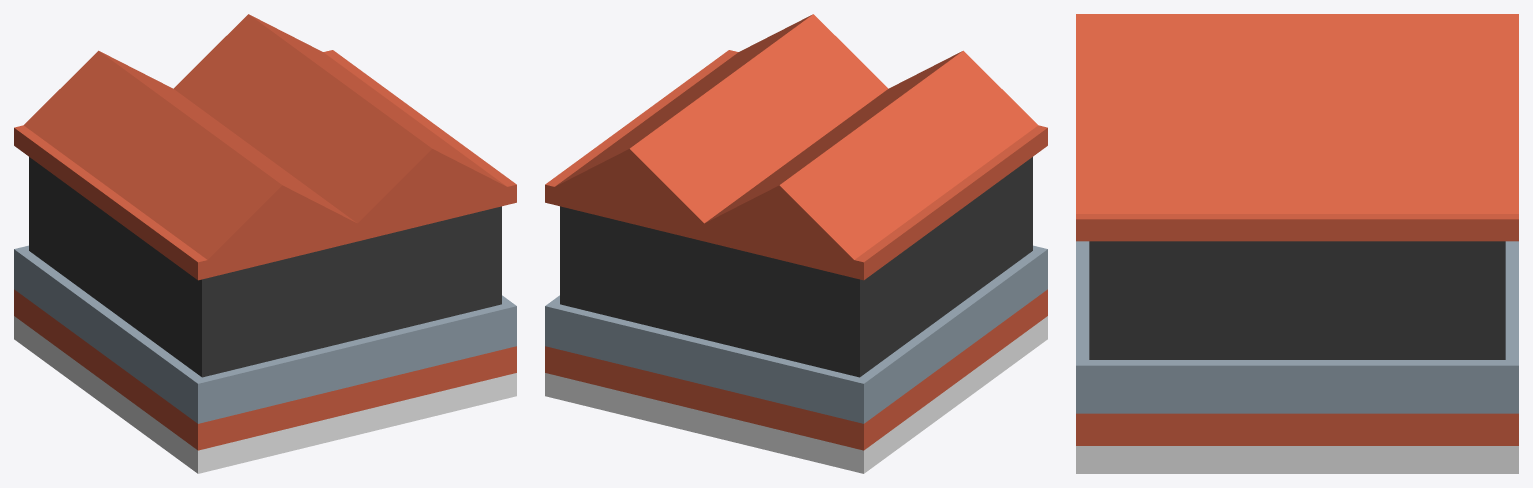
The model's file is buildingCorridorFactory_exclusive.fbx.
3 renders of one model, left to right at view 1: azimuth 30°, elevation 25°; view 2: azimuth 150°, elevation 25°; view 3: azimuth 270°, elevation 25°, orthographic. The views are drawn at different scales.
Parts seen in each view (by area): view 1: buildingCorridorFactory_exclusive; view 2: buildingCorridorFactory_exclusive; view 3: buildingCorridorFactory_exclusive.
Part boxes in pixels (left/top/right/bottom): buildingCorridorFactory_exclusive: left=14, top=14, right=516, bottom=473; buildingCorridorFactory_exclusive: left=545, top=14, right=1047, bottom=473; buildingCorridorFactory_exclusive: left=1076, top=14, right=1518, bottom=473.
Size of the model in its own units: 10 by 8.03 by 10.
